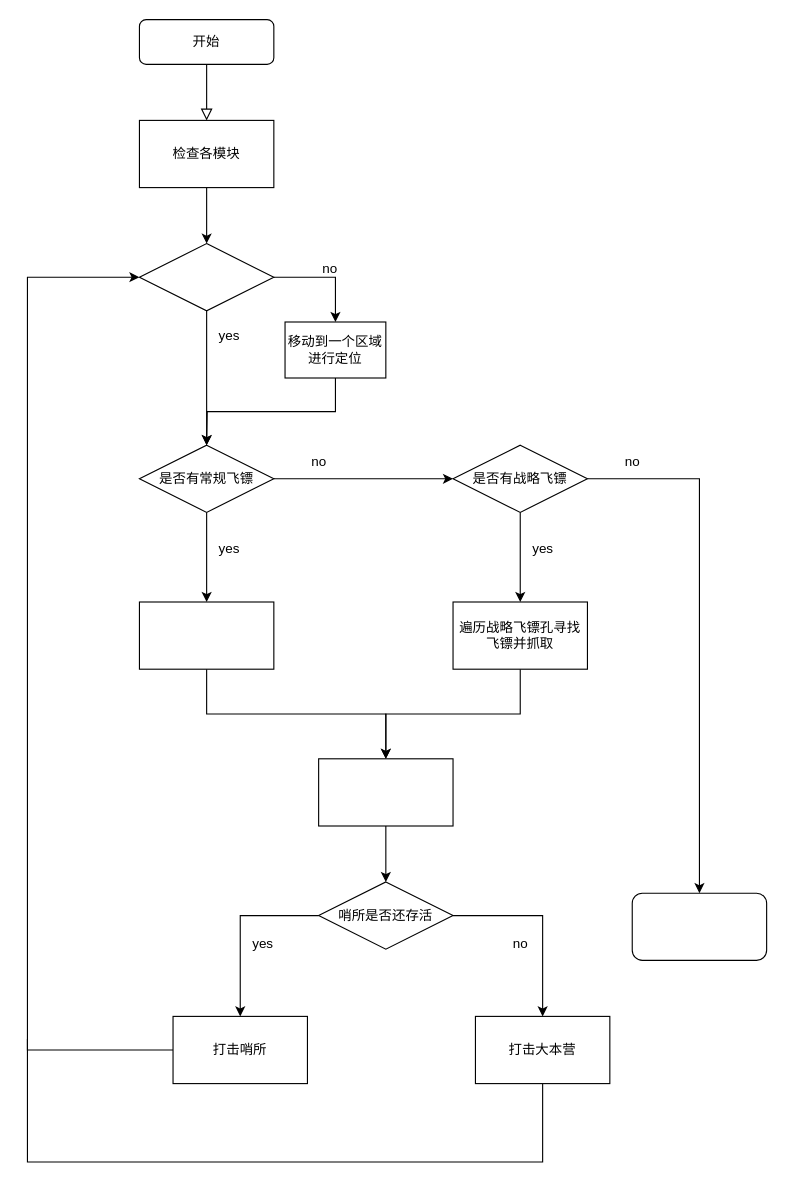
This 786x1183 diagram has some shape labels left out. Here are the shapes that lost their labels. From the top down, the centre of each, then its label:
At pixel 206 276: "初始定位".
At pixel 206 635: "遍历常规飞镖孔寻找飞镖并抓取".
At pixel 385 792: "到远程打击区进行打击".
At pixel 699 926: "结束".
